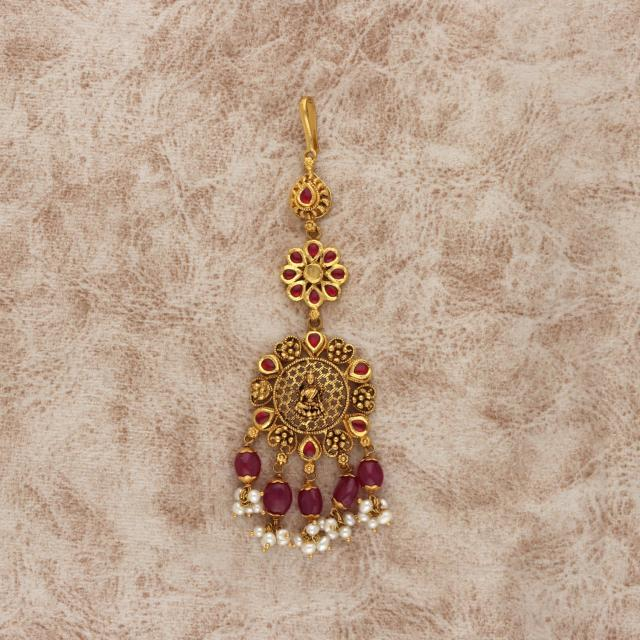missing gem: (307, 267, 320, 280)
